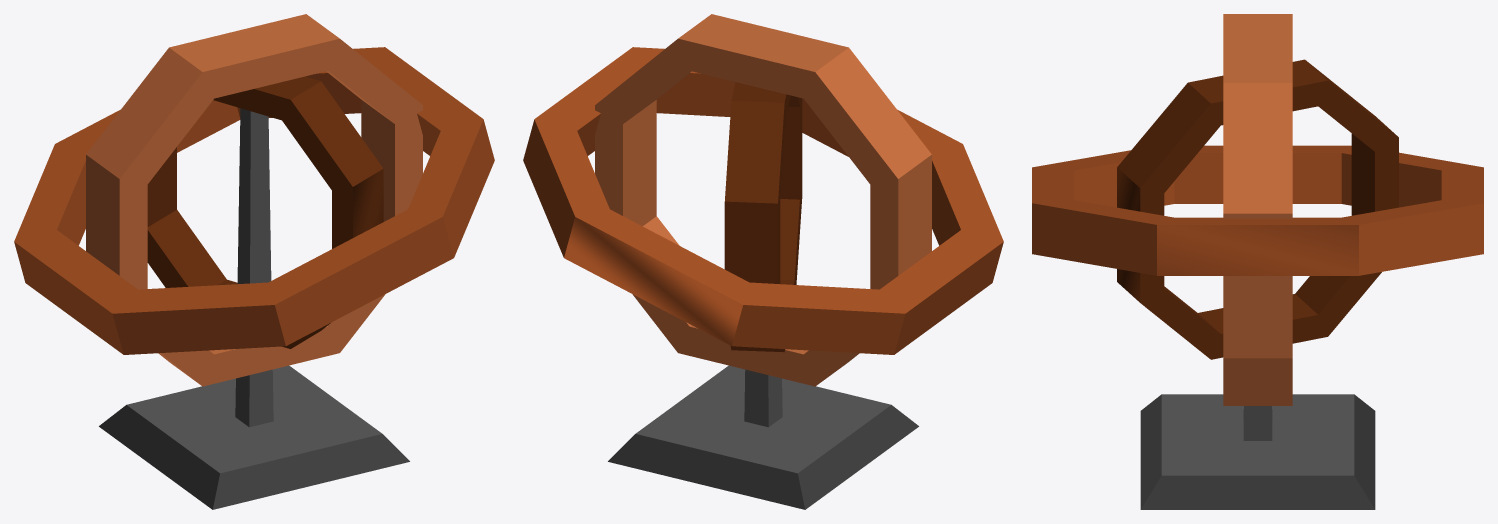
Rendered from Globe 01.FBX.
3 renders of one model, left to right at view 1: azimuth 30°, elevation 25°; view 2: azimuth 150°, elevation 25°; view 3: azimuth 270°, elevation 25°, orthographic. The views are drawn at different scales.
Visible parts, largest first — view 1: Globe 01; view 2: Globe 01; view 3: Globe 01.
Part boxes in pixels (x1,y1,x2,y2): Globe 01: (14,14,494,509); Globe 01: (523,14,1003,509); Globe 01: (1032,14,1483,509).
Bounding box in the file's own units: 72.23 × 72.39 × 71.93.
